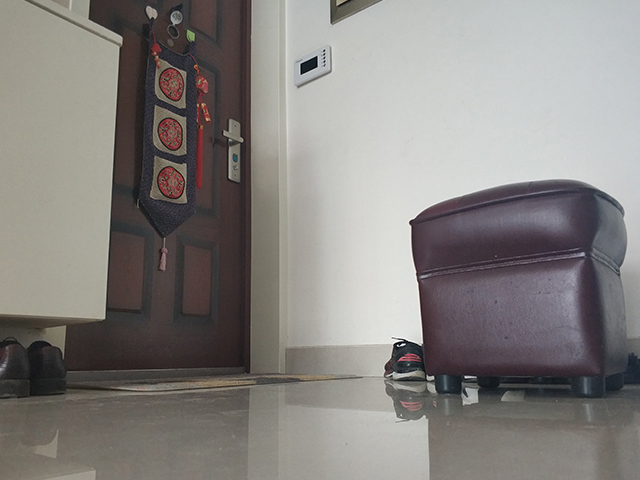carpet: (66, 371, 365, 393)
stool: (407, 177, 631, 402)
